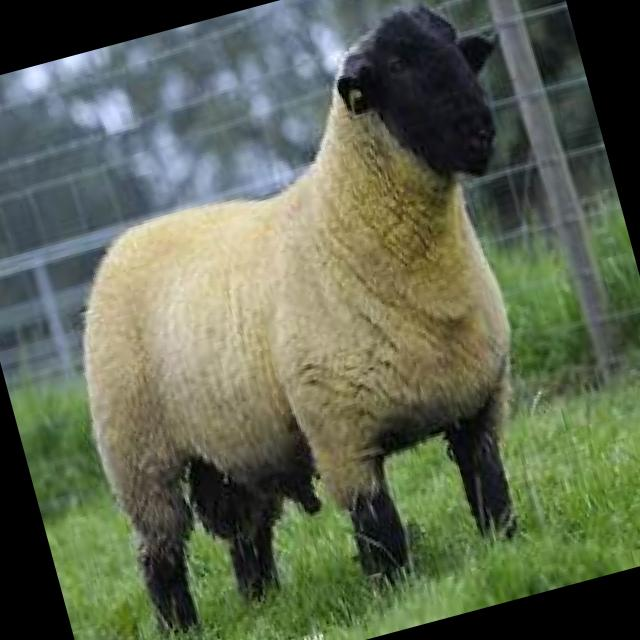animal: (5, 0, 631, 640)
